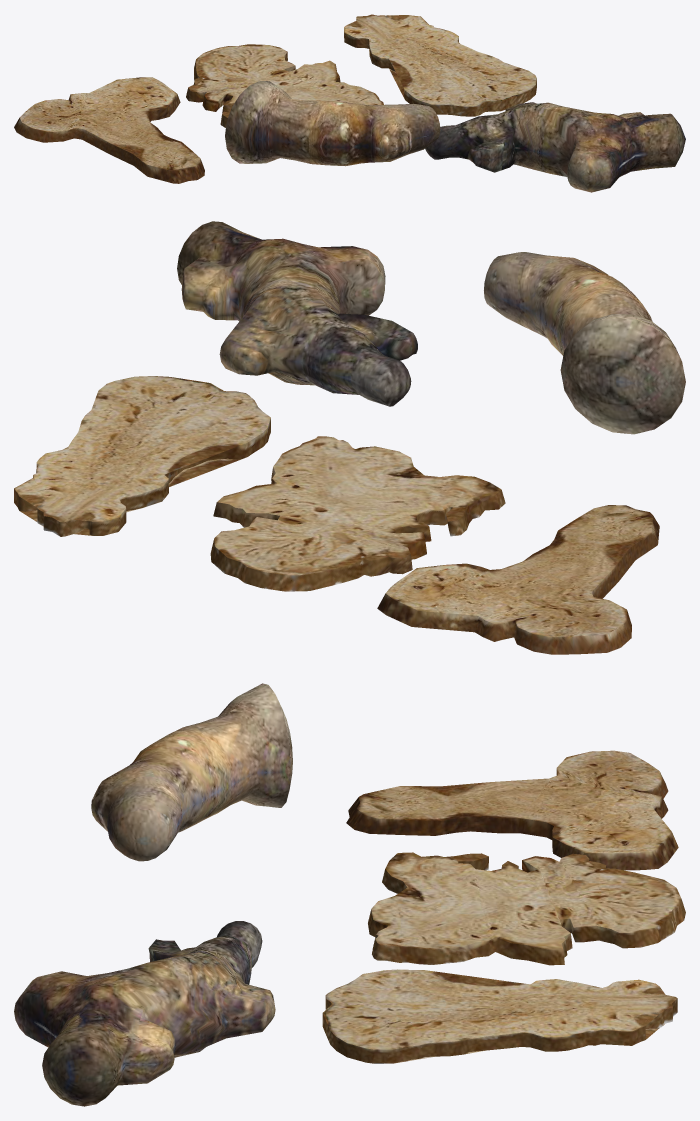
The model's file is baizhu.FBX.
3 views of the same model, one above another, from view 1: azimuth 30°, elevation 25°; view 2: azimuth 150°, elevation 25°; view 3: azimuth 270°, elevation 25° (orthographic). The views are drawn at different scales.
Visible parts, largest first — view 1: Cylinder002, Cylinder001, Line003, Line001, Line002; view 2: Line002, Cylinder002, Line003, Line001, Cylinder001; view 3: Line002, Cylinder002, Line003, Line001, Cylinder001.
Part boxes in pixels (x1,y1,x2,y2): Cylinder002: (425, 102, 685, 192); Cylinder001: (225, 81, 440, 166); Line003: (344, 14, 536, 116); Line001: (14, 77, 204, 183); Line002: (186, 44, 383, 127); Line002: (210, 436, 505, 591); Cylinder002: (177, 221, 417, 406); Line003: (14, 376, 270, 536); Line001: (377, 505, 659, 654); Cylinder001: (484, 252, 685, 434); Line002: (368, 852, 685, 965); Cylinder002: (14, 921, 275, 1106); Line003: (322, 969, 677, 1063); Line001: (346, 750, 678, 870); Cylinder001: (91, 683, 292, 861).
Size of the model in its own units: 538 by 133 by 452.
Materials: 1 (1 with a texture image).
